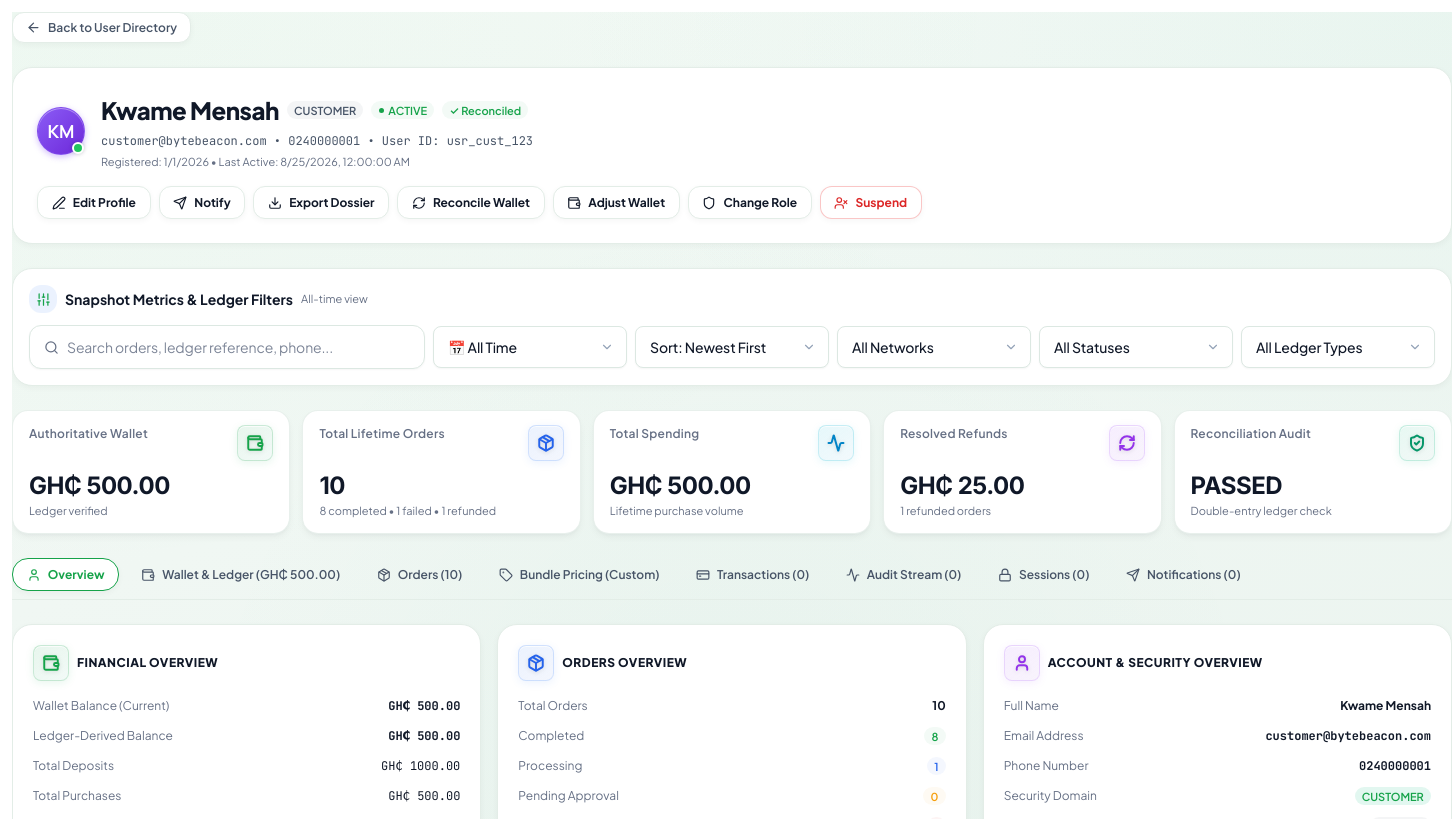
Scenario: AdminUserDetailPage — Operational Cards & Snapshot Filters › 3. filters by Period and verifies custom date inputs expand on CUSTOM selection
Check: the text "Snapshot Metrics & Ledger Filters" is shown, box [65, 289, 293, 310]
Note: Select Custom Range
Step 1. Select "Custom Range..." in the 1st dropdown showing "📅 All Time" → (530, 347), box [433, 326, 627, 368]
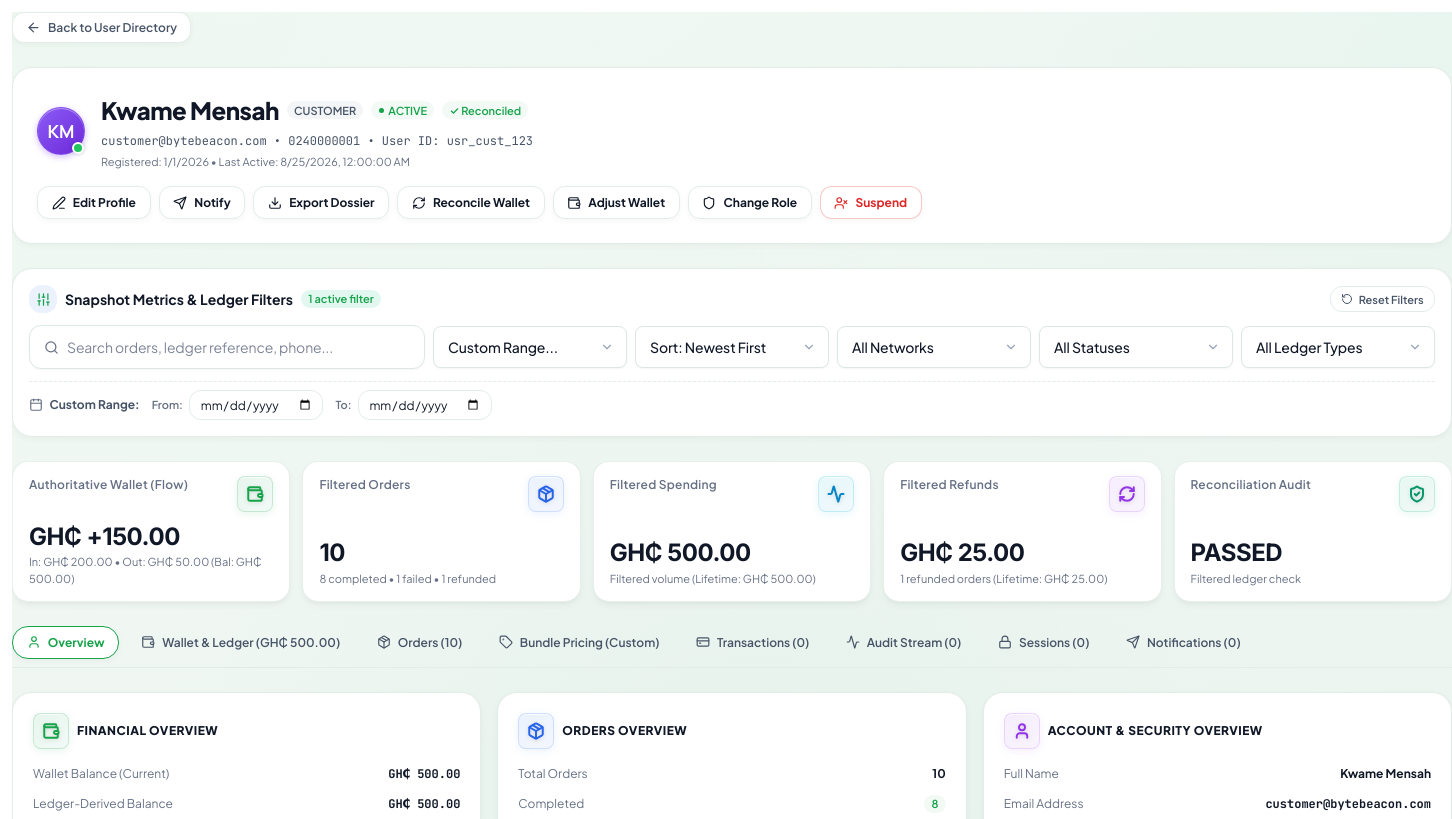
Check: the text "Custom Range:" is shown, box [49, 396, 140, 414]
Check: the text "From:" is shown, box [152, 397, 183, 413]
Check: the text "To:" is shown, box [335, 397, 352, 413]
Note: Reset filters
Step 2. Click the button "Reset Filters" → (1382, 299), box [1330, 286, 1435, 312]
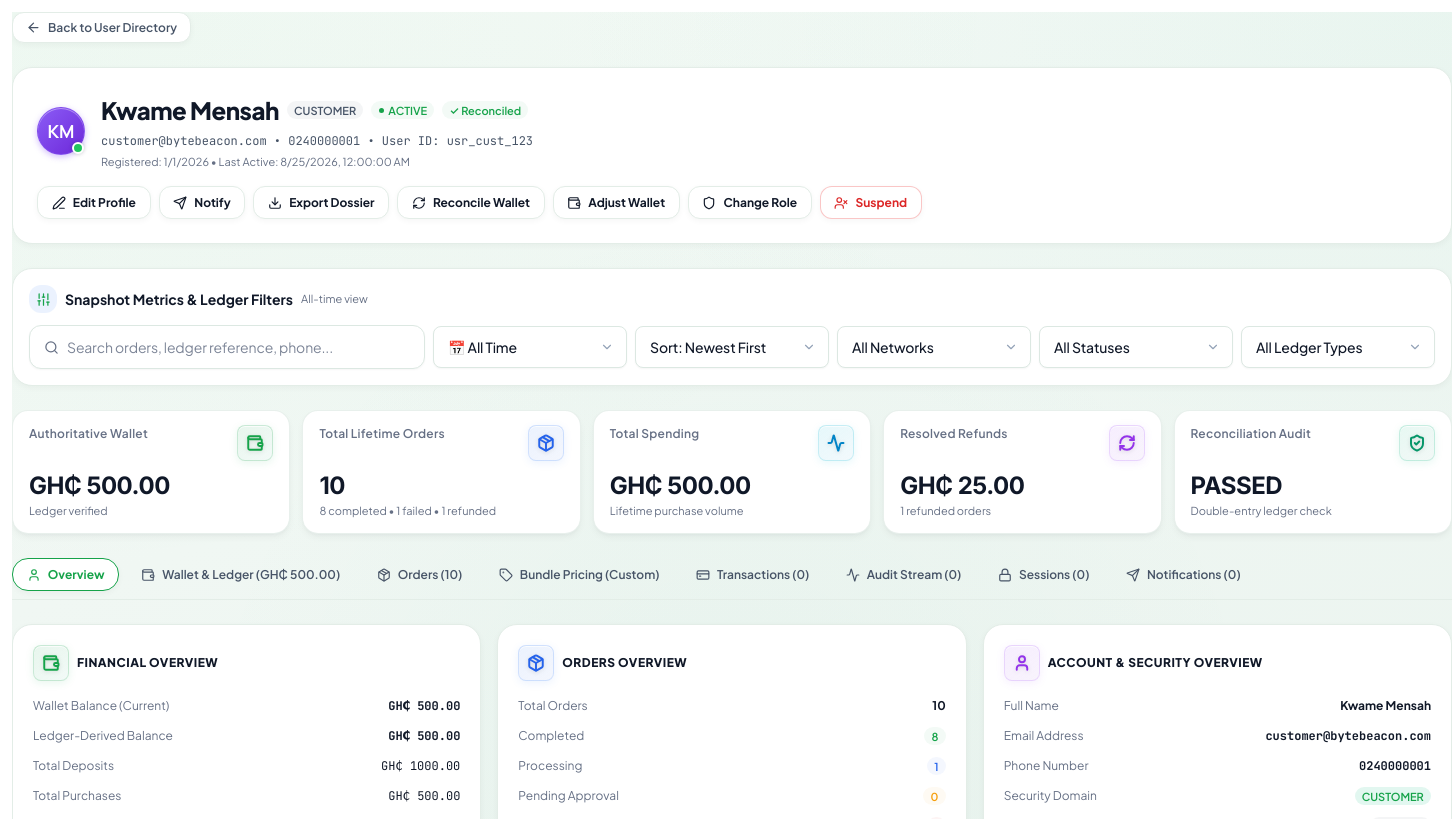
Check: the text "All-time view" is shown, box [301, 291, 368, 307]
Check: the text "Custom Range:" is gone
